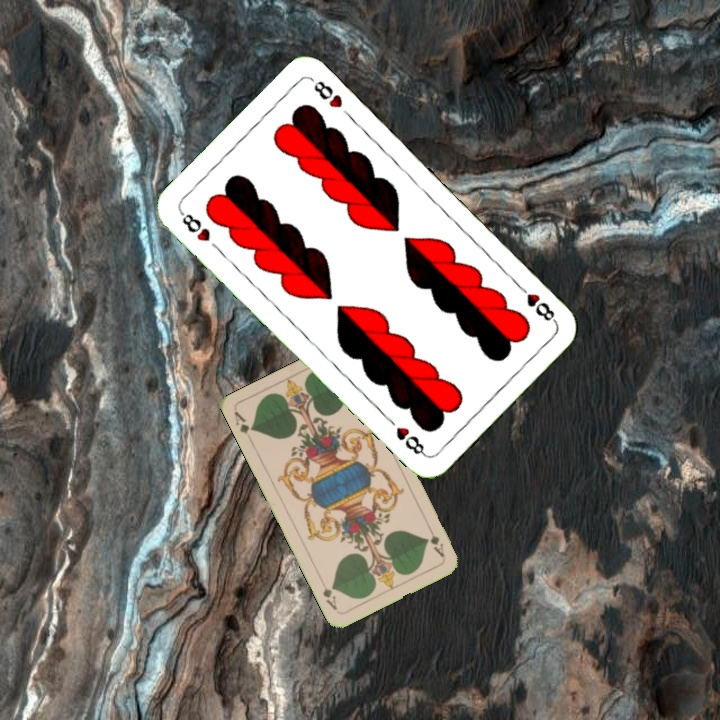GA: (230, 407, 257, 445), (423, 522, 447, 560)
H8: (513, 280, 560, 326), (176, 207, 213, 244)
